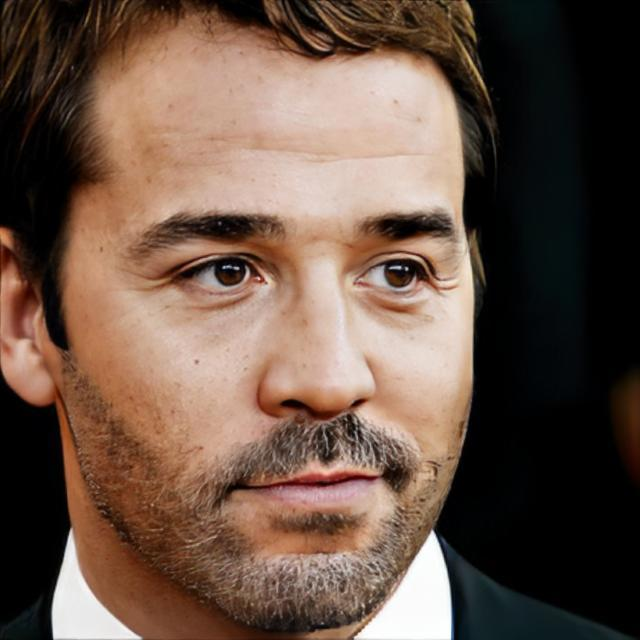neutral: (69, 28, 479, 627)
